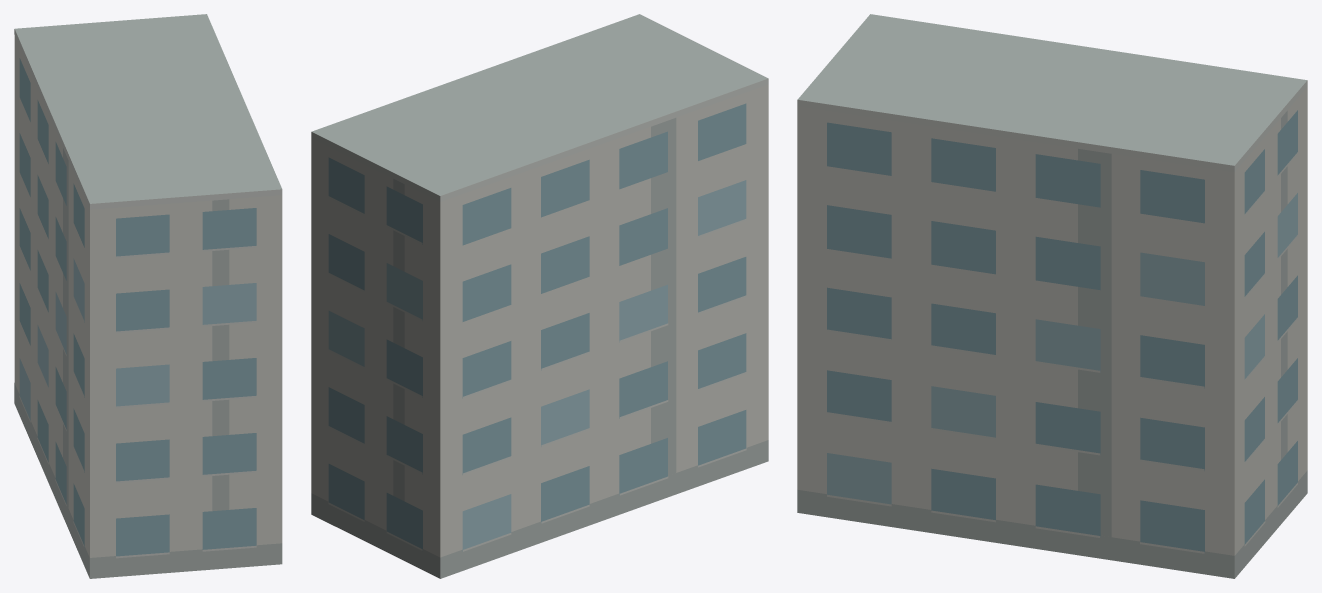
File: residential-6c53f63d-7ead-45c8-b156-be302f104734.glb
The picture shows the model from 3 angles, left to right: view 1: azimuth 30°, elevation 25°; view 2: azimuth 150°, elevation 25°; view 3: azimuth 270°, elevation 25°; orthographic projection. The views are drawn at different scales.
Visible parts, largest first — view 1: residential-6c53f63d-7ead-45c8-b156-be302f104734.tmp; view 2: residential-6c53f63d-7ead-45c8-b156-be302f104734.tmp; view 3: residential-6c53f63d-7ead-45c8-b156-be302f104734.tmp.
Part boxes in pixels (x1,y1,x2,y2): residential-6c53f63d-7ead-45c8-b156-be302f104734.tmp: (14,14,282,578); residential-6c53f63d-7ead-45c8-b156-be302f104734.tmp: (311,14,768,578); residential-6c53f63d-7ead-45c8-b156-be302f104734.tmp: (797,14,1307,578).
Size of the model in its own units: 12.03 by 15.25 by 17.08.
